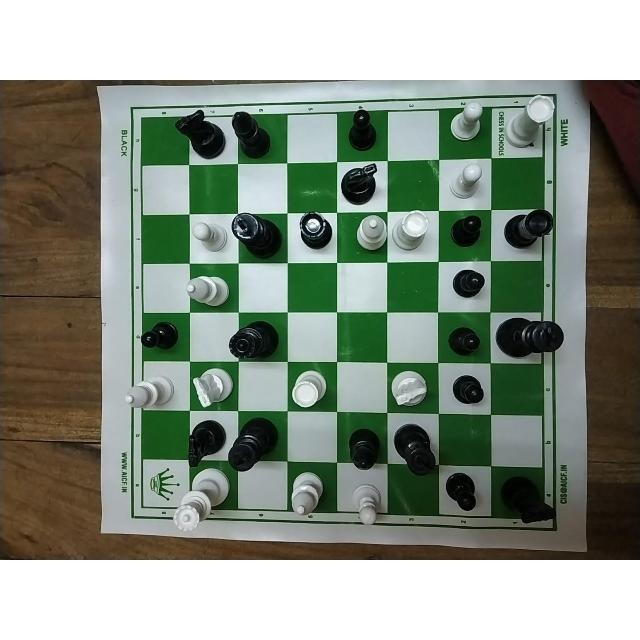black-bishop: (231, 109, 271, 160), (347, 425, 379, 472)
black-king: (496, 316, 566, 358), (227, 420, 278, 472), (231, 210, 283, 260), (393, 422, 437, 477)
black-knight: (498, 474, 556, 524), (173, 107, 226, 158), (186, 419, 226, 466), (340, 163, 377, 203)
black-pawn: (443, 472, 483, 512), (445, 213, 485, 252), (345, 110, 376, 152), (447, 267, 484, 300), (445, 324, 483, 356), (451, 372, 485, 407), (141, 320, 177, 351)
black-queen: (227, 319, 279, 361)
black-rook: (504, 209, 556, 249), (296, 210, 333, 249)
white-bishop: (123, 375, 177, 409), (182, 273, 229, 307), (292, 468, 324, 517), (354, 214, 387, 250)
white-knight: (191, 366, 233, 409), (389, 369, 430, 408)
white-pawn: (448, 101, 484, 141), (349, 484, 381, 528), (191, 220, 227, 254), (446, 164, 481, 197)
white-queen: (172, 468, 230, 532)
white-rook: (503, 92, 555, 147), (392, 209, 431, 252), (291, 368, 325, 407)
